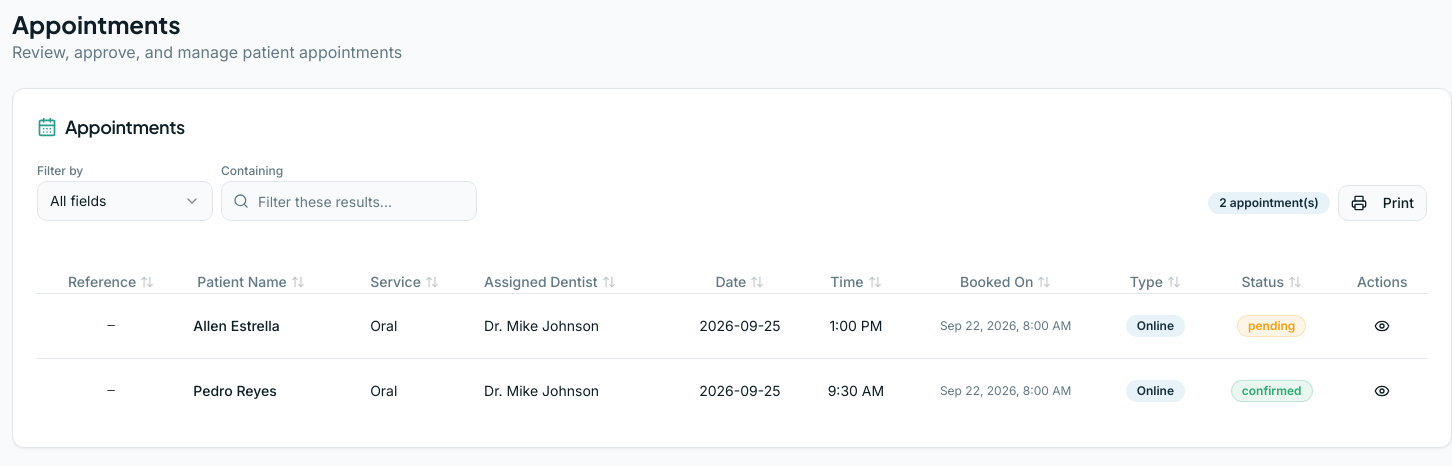
it: the appointments list › keeps the filter bar and the table in one card
Expected: the text "Allen Estrella" is shown, x1=185 y1=293 x2=362 y2=358
Expected: the dropdown named "Filter by field" is shown, x1=37 y1=181 x2=213 y2=221
Type "maria" into the field labelled "Filter these results". click: (349, 201)
box: x1=221 y1=181 x2=477 y2=221
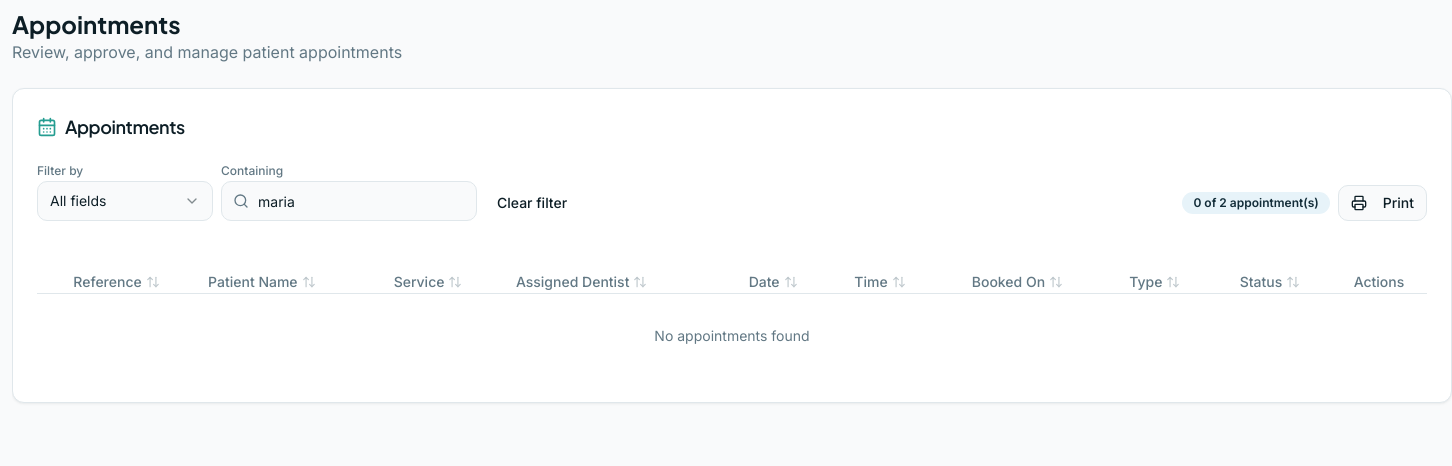
Result: the button "Clear filter" is shown at x1=485 y1=185 x2=579 y2=221
